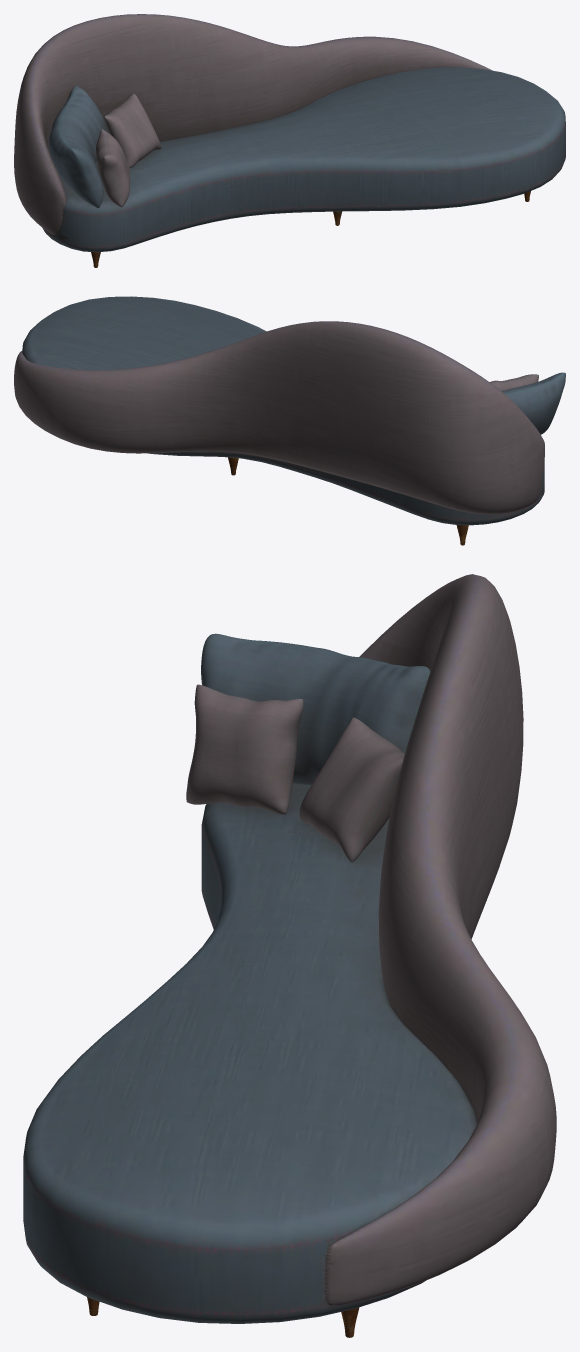
Rendered from 3d_pbr_curved_sofa_lod.glb.
3 renders of one model, top to bottom at view 1: azimuth 30°, elevation 25°; view 2: azimuth 150°, elevation 25°; view 3: azimuth 270°, elevation 25°, orthographic. The views are drawn at different scales.
Parts seen in each view (by area): view 1: sofabase_sofabase_0, sofaback_sofaback_0, pillowsmall1_pillows_0; view 2: sofaback_sofaback_0, sofabase_sofabase_0, pillowsmall1_pillows_0; view 3: sofabase_sofabase_0, sofaback_sofaback_0, pillowsmall1_pillows_0.
Boxes of the visible parts, x1,y1,x2,y2 form: sofabase_sofabase_0: (42,67,565,252); sofaback_sofaback_0: (14,14,492,235); pillowsmall1_pillows_0: (48,85,161,208); sofaback_sofaback_0: (14,321,544,514); sofabase_sofabase_0: (22,296,544,525); pillowsmall1_pillows_0: (490,372,565,434); sofabase_sofabase_0: (23,783,476,1323); sofaback_sofaback_0: (325,574,556,1305); pillowsmall1_pillows_0: (186,633,430,862).
Size of what is drawn, in the model's own units: 3.88 by 1.47 by 1.82.
4 materials, 4 textured.
